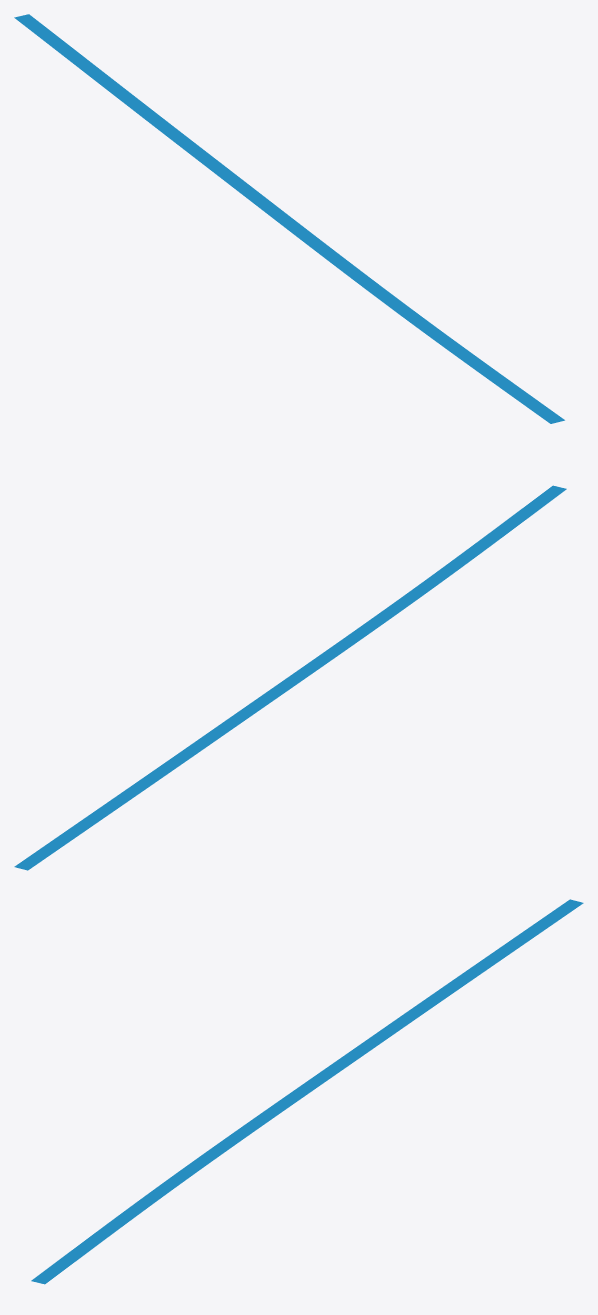
Rendered from guide.glb.
3 views of the same model, one above another, from view 1: azimuth 30°, elevation 25°; view 2: azimuth 150°, elevation 25°; view 3: azimuth 330°, elevation 25° (orthographic). The views are drawn at different scales.
Parts seen in each view (by area): view 1: static; view 2: static; view 3: static.
Boxes of the visible parts, x1,y1,x2,y2 form: static: [14, 14, 564, 423]; static: [14, 485, 566, 870]; static: [31, 899, 583, 1284].
Size of the model in its own units: 1 by 0 by 21.5.
